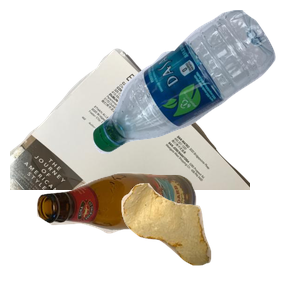glass: (34, 170, 223, 300)
paper: (10, 46, 250, 226)
plastic: (90, 10, 300, 156)
trash: (119, 181, 300, 300)
